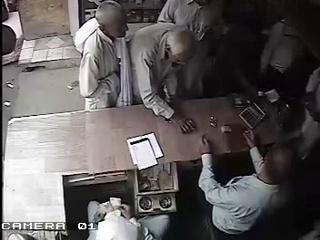Normal: (198, 127, 296, 240), (129, 22, 199, 134), (239, 103, 266, 130)
shoplifting: (73, 1, 133, 110)
